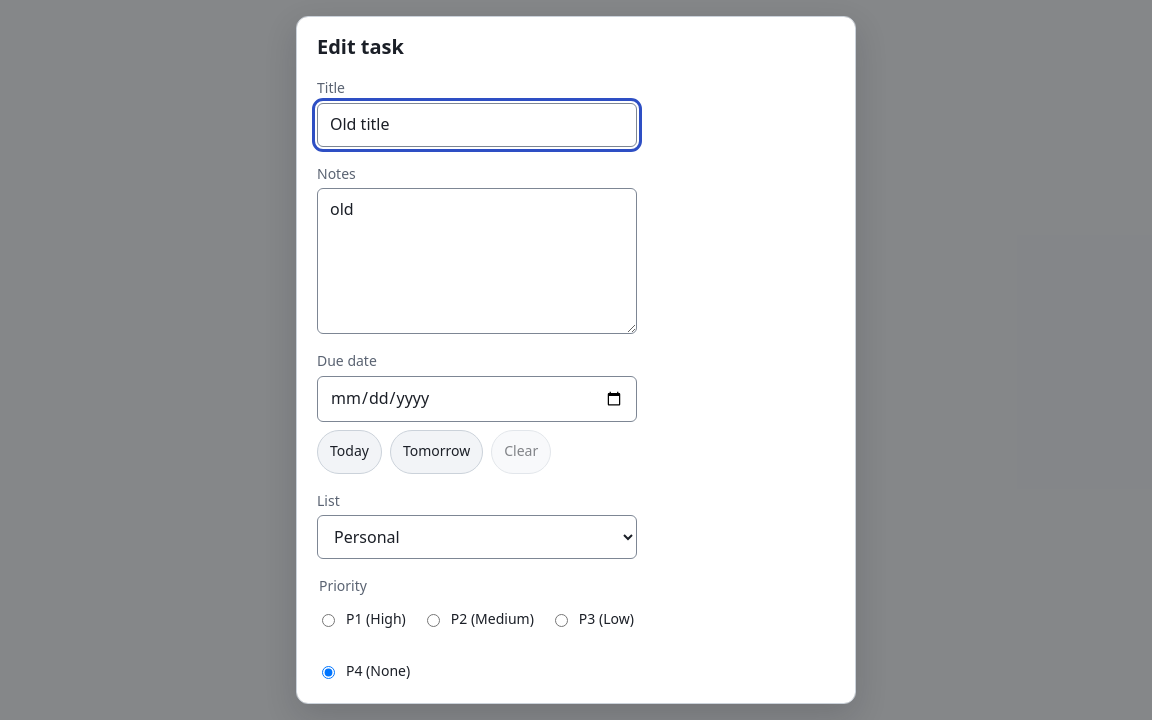
it: S4 task editor — F2 edit › saves every field in one action, closes and announces "Task saved"
Step 1. Replace the text in the field labelled "Title" with "New title" → (477, 125), box x1=317 y1=103 x2=637 y2=147
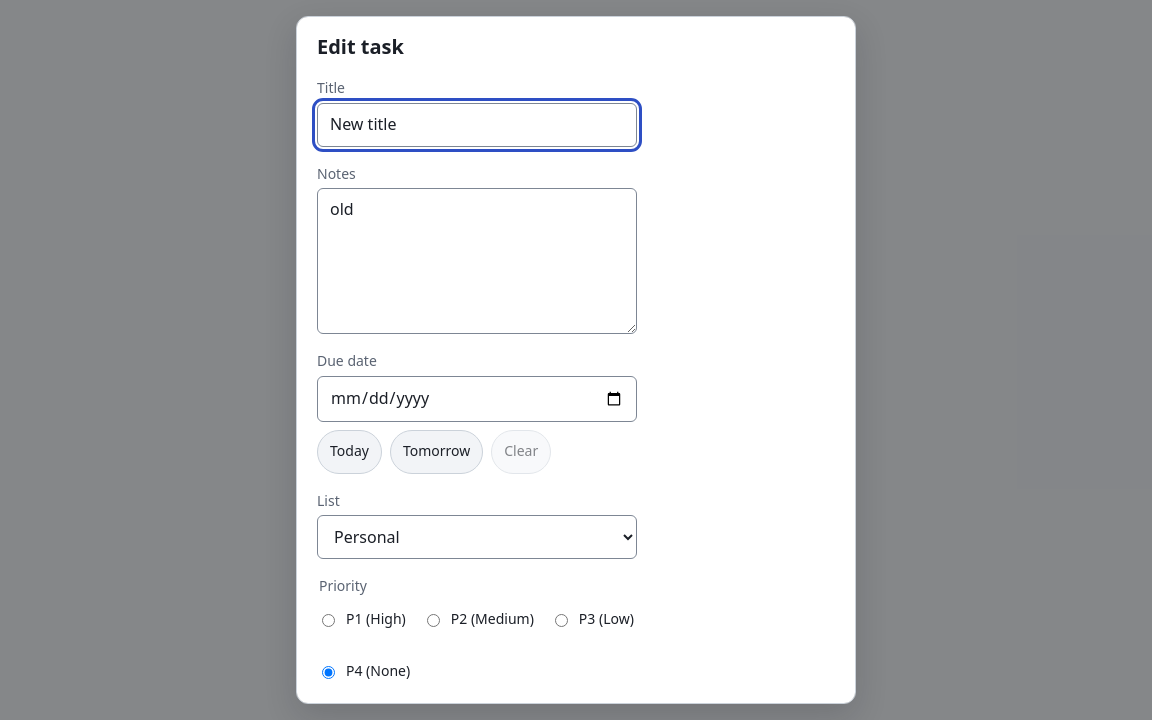
Step 2. Replace the text in the text box labelled "Notes" with "fresh notes" → (477, 261), box x1=317 y1=188 x2=637 y2=334
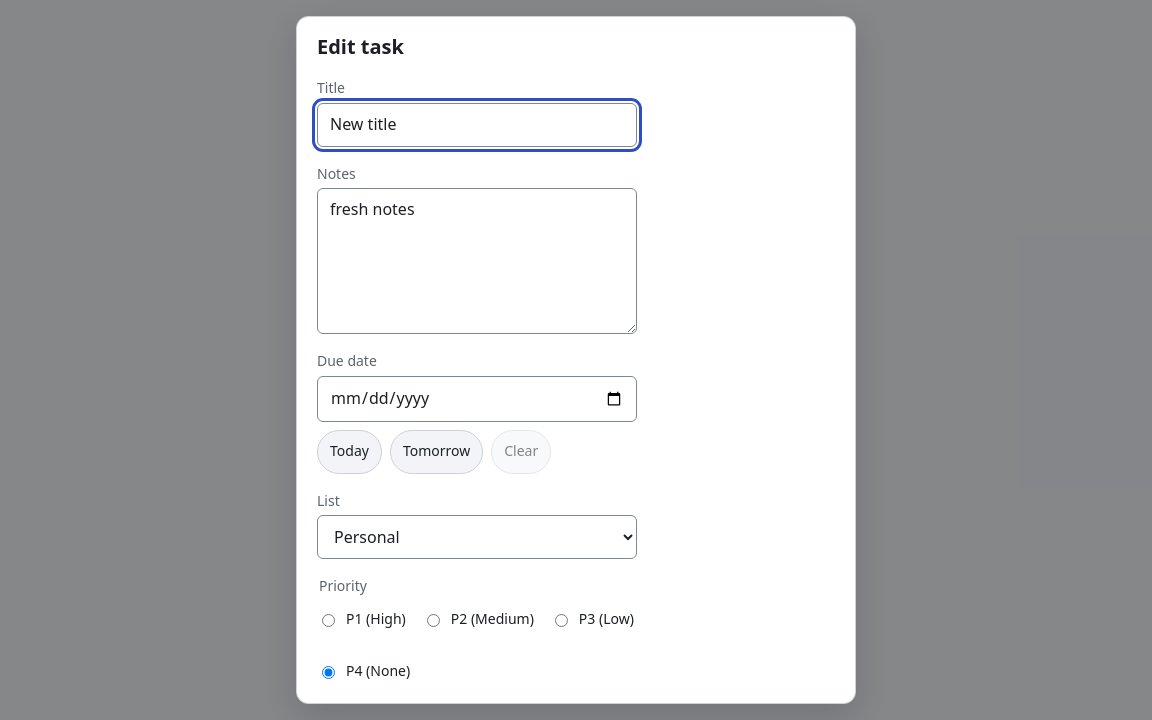
# A list change rides the same Save (two domain writes, one optimistic paint).
Step 3. Select "Work" in the dropdown labelled "List" → (477, 537), box x1=317 y1=515 x2=637 y2=559
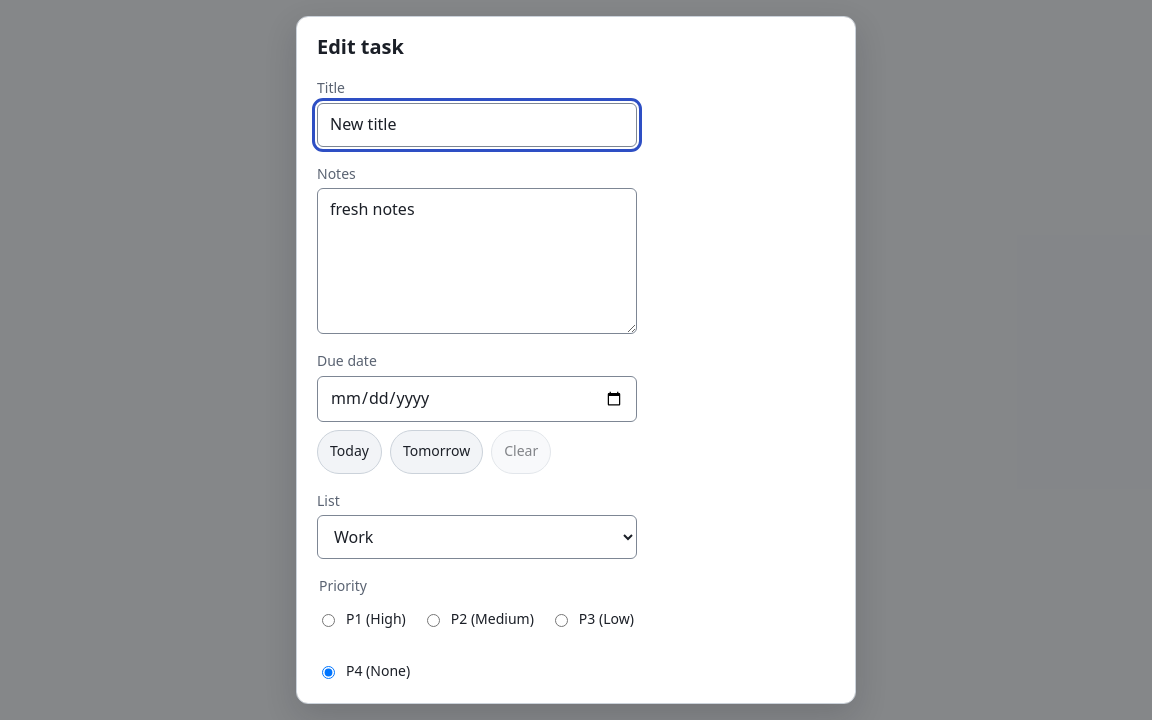
Step 4. Click the radio button labelled "P1 (High)" → (328, 620), box x1=322 y1=614 x2=335 y2=627
(page scrolled)
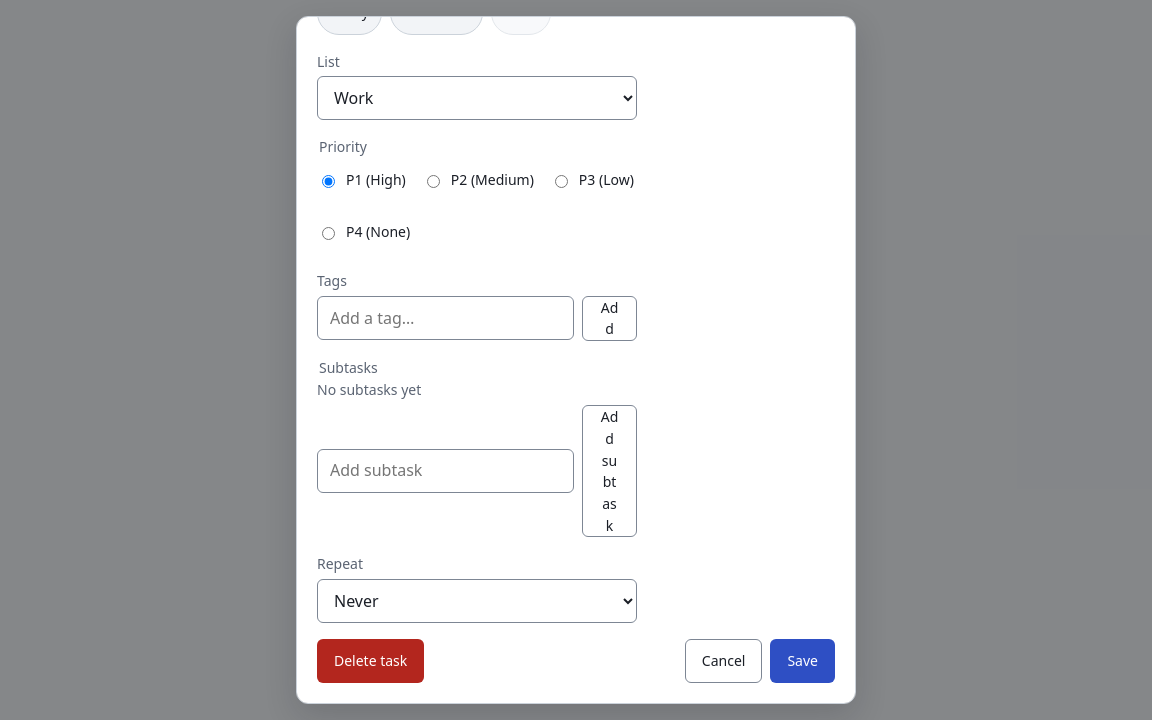
Step 5. Click the button "Save" → (803, 661), box x1=770 y1=639 x2=835 y2=683
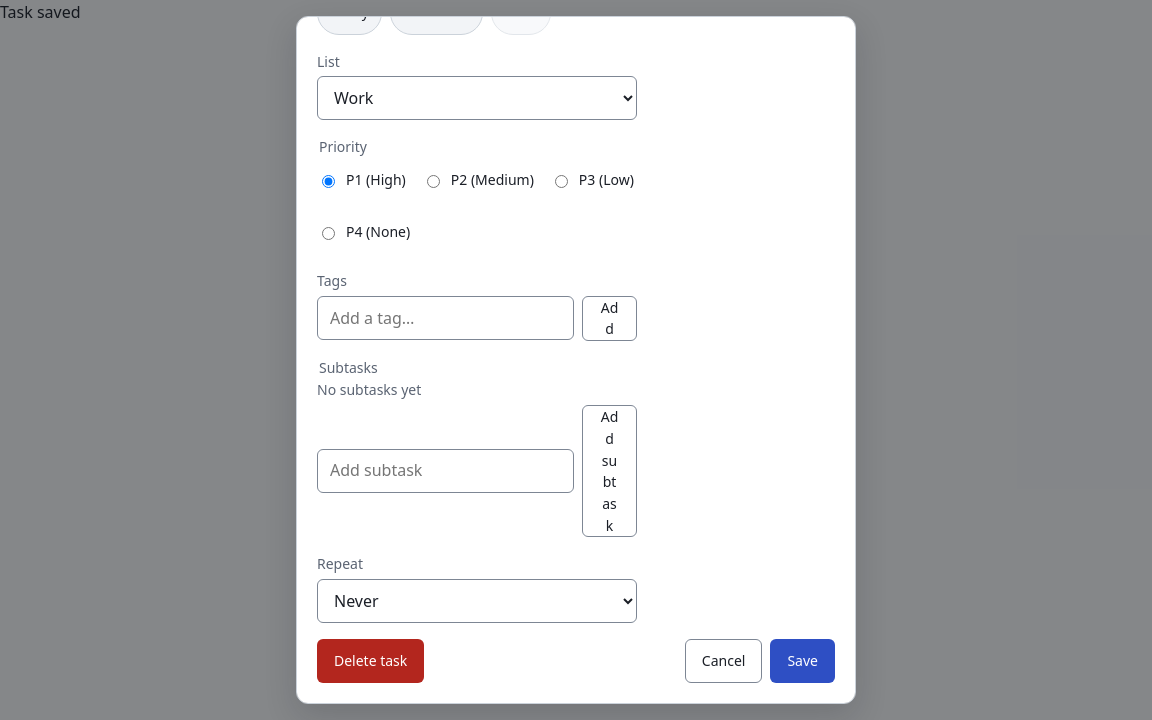
Expected: the text "Task saved" is shown, x1=0 y1=1 x2=81 y2=23
